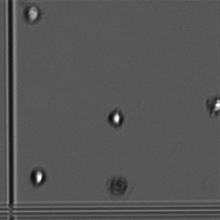Dead Cell: (105, 171, 134, 200)
Living Cell: (26, 164, 54, 192), (105, 106, 131, 132), (22, 2, 47, 27), (203, 92, 220, 114)
